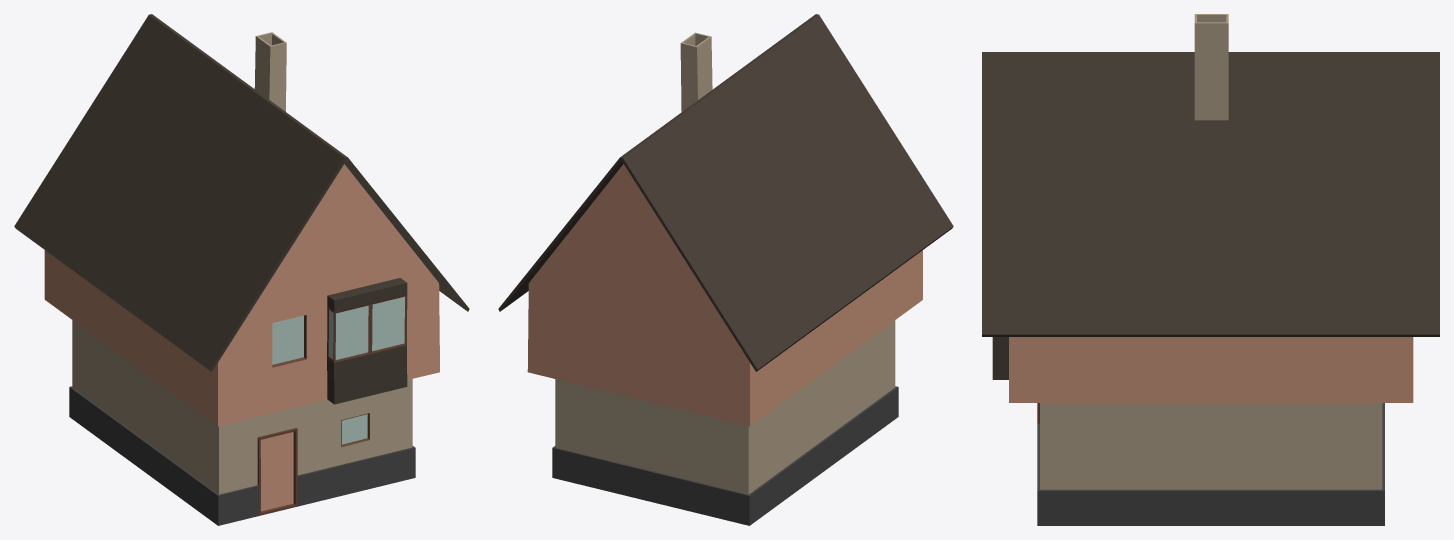
Rendered from yamato civil house.fbx.
The picture shows the model from 3 angles, left to right: view 1: azimuth 30°, elevation 25°; view 2: azimuth 150°, elevation 25°; view 3: azimuth 270°, elevation 25°; orthographic projection. The views are drawn at different scales.
Visible parts, largest first — view 1: Cube; view 2: Cube; view 3: Cube.
Boxes of the visible parts, box(x1,y1,x2,y2) form: Cube: box(14, 14, 469, 525); Cube: box(498, 14, 953, 525); Cube: box(982, 14, 1439, 525).
Size of the model in its own units: 263 by 388 by 344.
